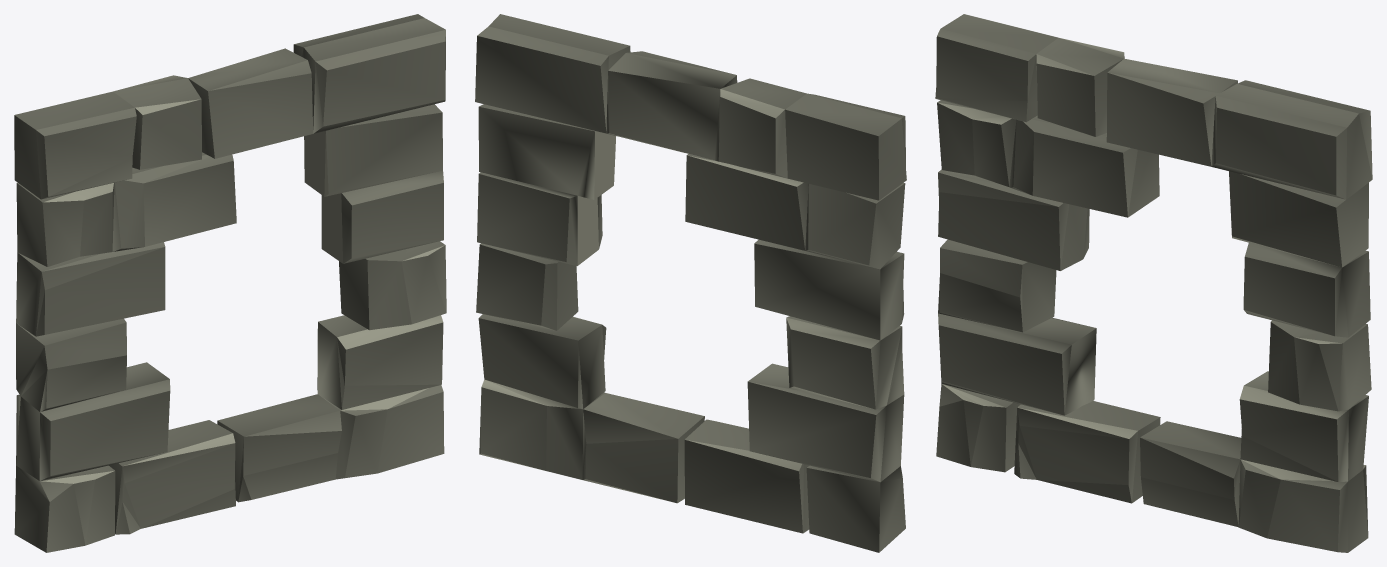
The model's file is WallHole.fbx.
The picture shows the model from 3 angles, left to right: view 1: azimuth 30°, elevation 25°; view 2: azimuth 150°, elevation 25°; view 3: azimuth 330°, elevation 25°; orthographic projection.
Visible parts, largest first — view 1: WallHole; view 2: WallHole; view 3: WallHole.
Part boxes in pixels (<box>): WallHole: <box>14,14,446,552</box>; WallHole: <box>475,14,906,552</box>; WallHole: <box>935,14,1372,552</box>.
Bounding box in the file's own units: 99.8 × 14.65 × 99.8.
